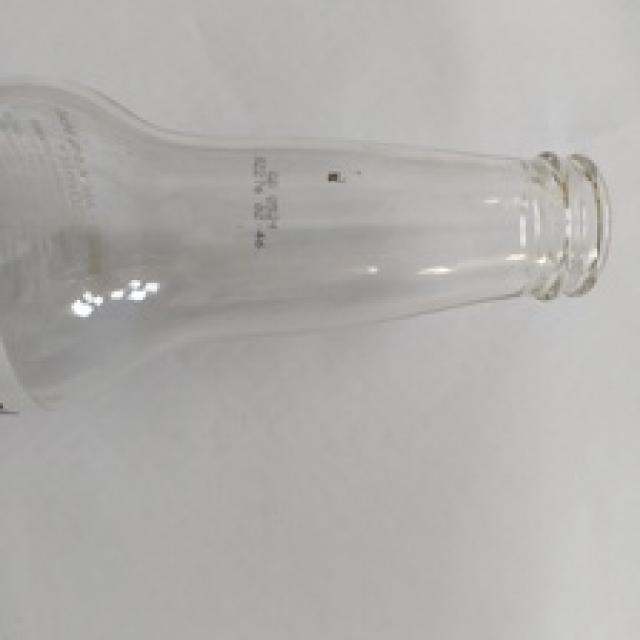glass-bottle: (1, 58, 627, 448)
